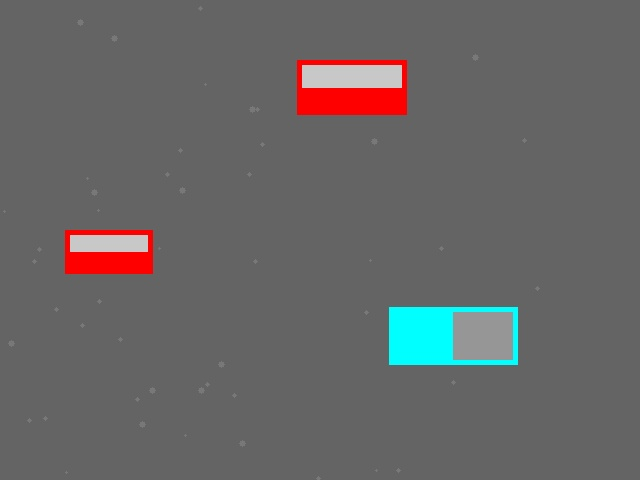car: (297, 60, 406, 114), (65, 230, 152, 273)
truck: (389, 307, 517, 364)
